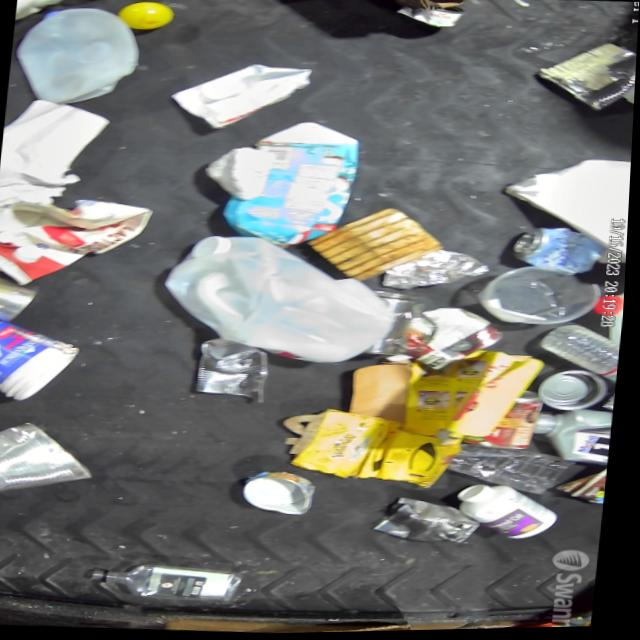can: (388, 297, 516, 369), (0, 418, 105, 501), (532, 39, 638, 120), (503, 227, 615, 287), (377, 500, 489, 558), (186, 339, 284, 404), (228, 468, 330, 522), (523, 363, 618, 415), (0, 260, 44, 321)
milk_jug: (158, 229, 404, 373), (8, 3, 143, 110)
non_white_jug: (385, 348, 547, 467), (522, 406, 618, 473)
plastic_bottle: (441, 444, 571, 498), (534, 324, 626, 385)
